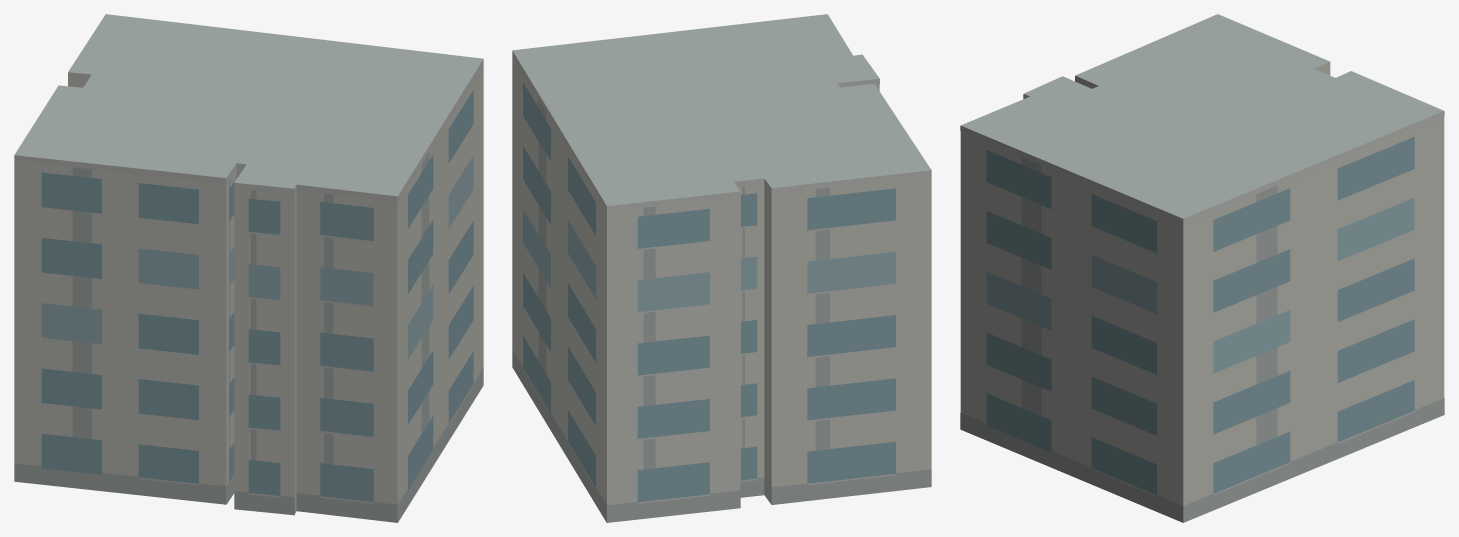
File: survey-upis-32680118.glb
3 views of the same model, side by side, from view 1: azimuth 30°, elevation 25°; view 2: azimuth 150°, elevation 25°; view 3: azimuth 270°, elevation 25° (orthographic). The views are drawn at different scales.
Parts seen in each view (by area): view 1: survey-upis-32680118.tmp; view 2: survey-upis-32680118.tmp; view 3: survey-upis-32680118.tmp.
Part boxes in pixels (<box>): survey-upis-32680118.tmp: <box>14,14,483,522</box>; survey-upis-32680118.tmp: <box>512,14,931,522</box>; survey-upis-32680118.tmp: <box>960,14,1444,522</box>.
Size of the model in its own units: 19.51 by 13.5 by 19.48.
